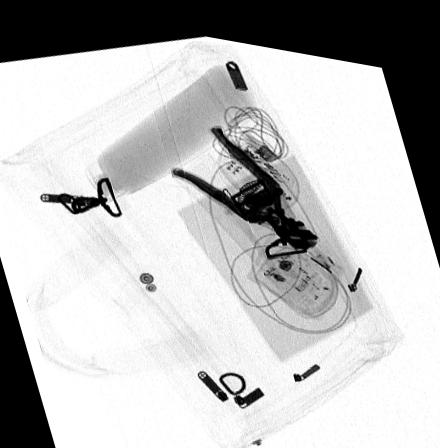Pliers: (172, 116, 320, 238)
